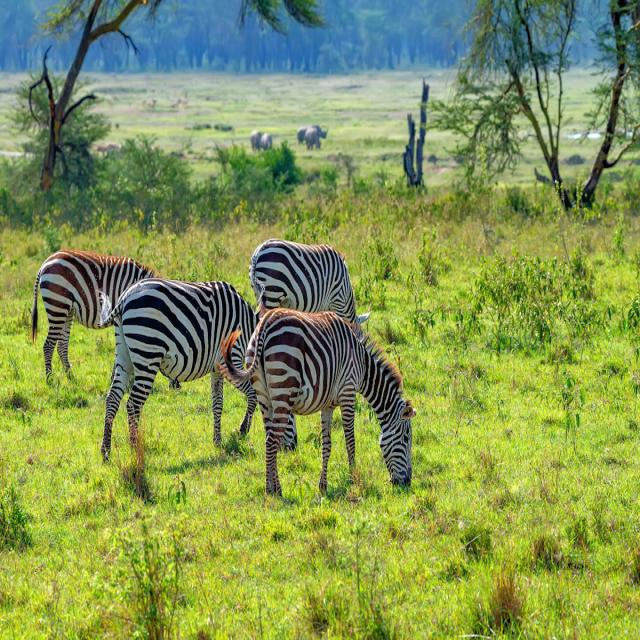Herbivorous: (100, 279, 259, 502), (242, 309, 414, 499), (30, 250, 160, 382), (250, 241, 361, 328)
